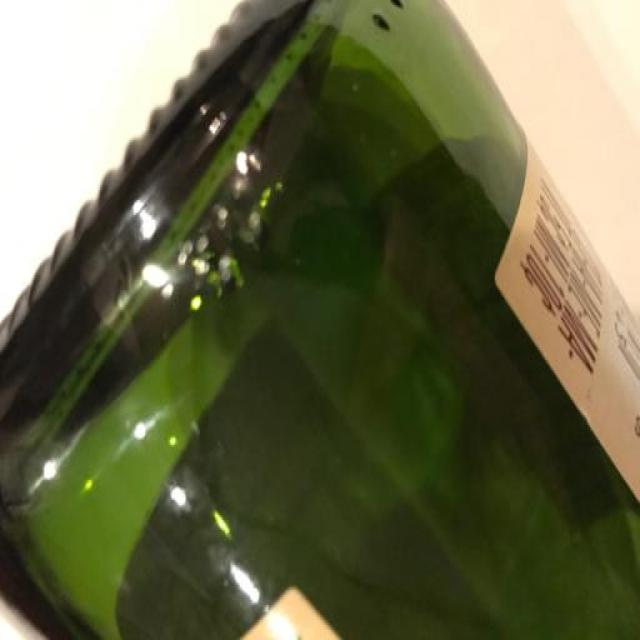glass: (1, 2, 640, 640)
